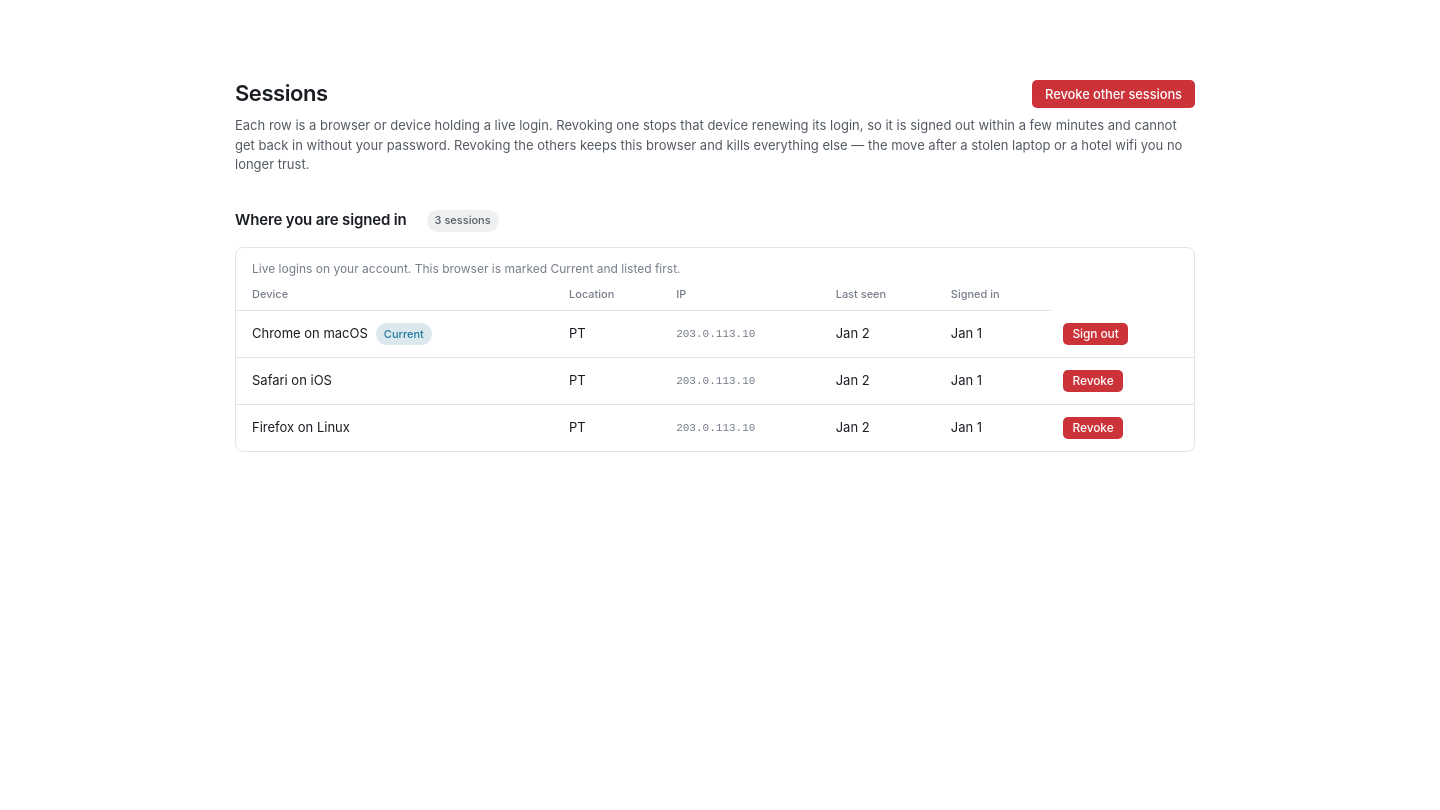
Sessions › revokes every other session from the header, keeping this browser
The width and height of the screenshot is (1440, 810).
Click the button "Revoke other sessions" at (1114, 94), box [1032,80,1195,108]
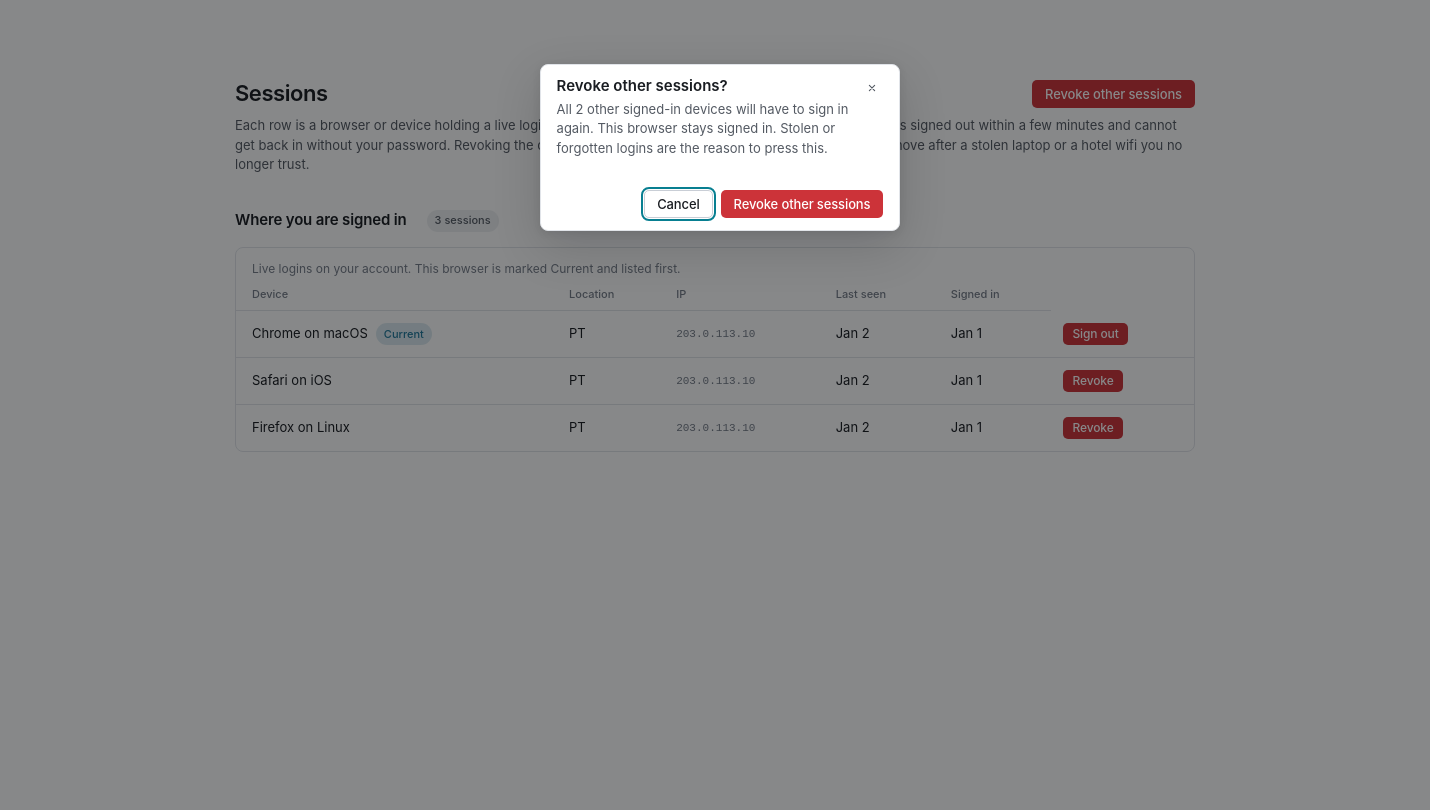
expect the dialog "Revoke other sessions?" shows "All 2 other signed-in devices": met, box [557,101,848,156]
Click the button "Revoke other sessions" at (802, 204), box [720,190,883,218]
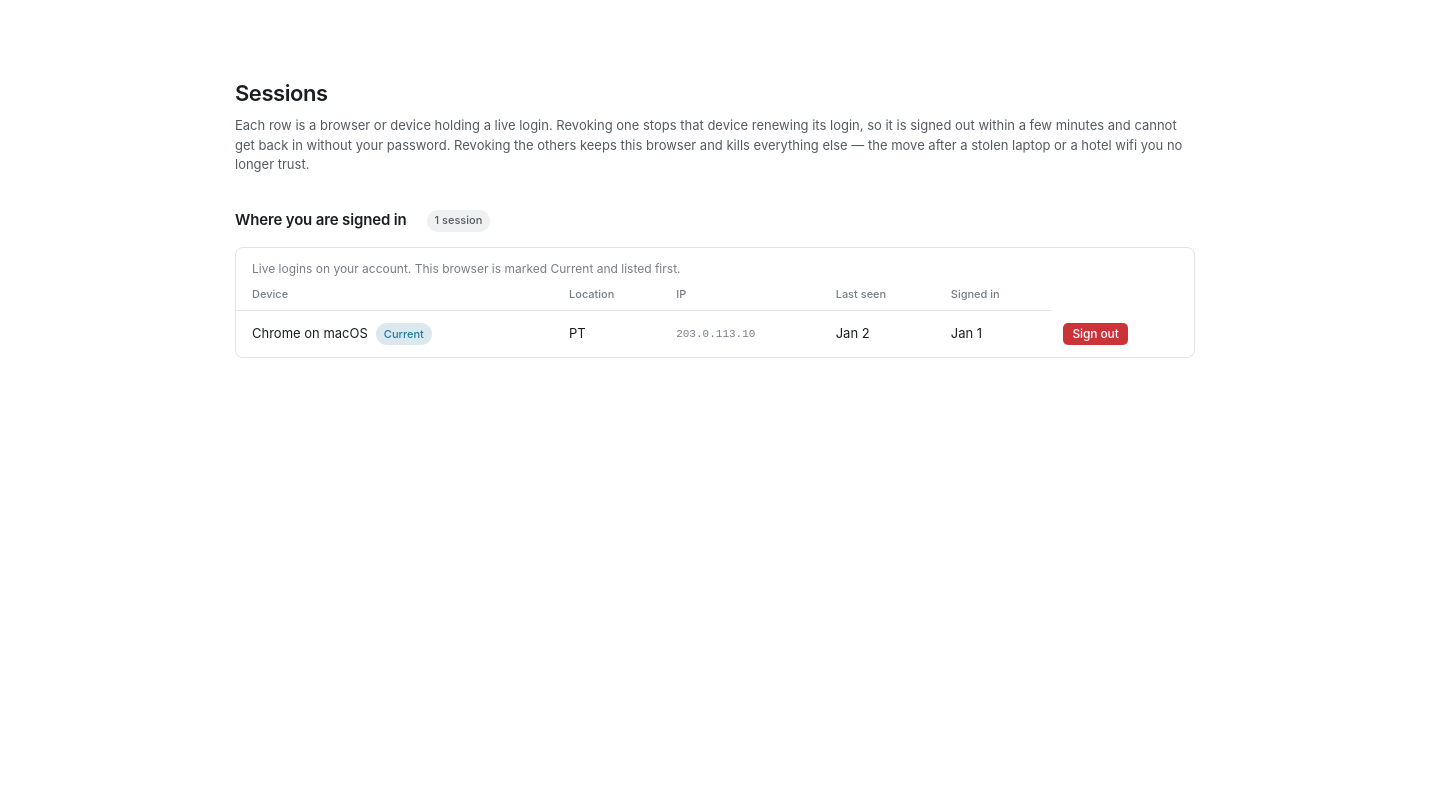
expect the text "Chrome on macOS" is shown: met, box [252,325,368,341]
expect the text "Safari on iOS" is gone: met
expect the text "Firefox on Linux" is gone: met
